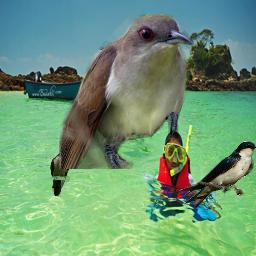Cuckoo: (59, 14, 194, 169), (50, 149, 70, 196)
Swallow: (179, 141, 256, 208)
